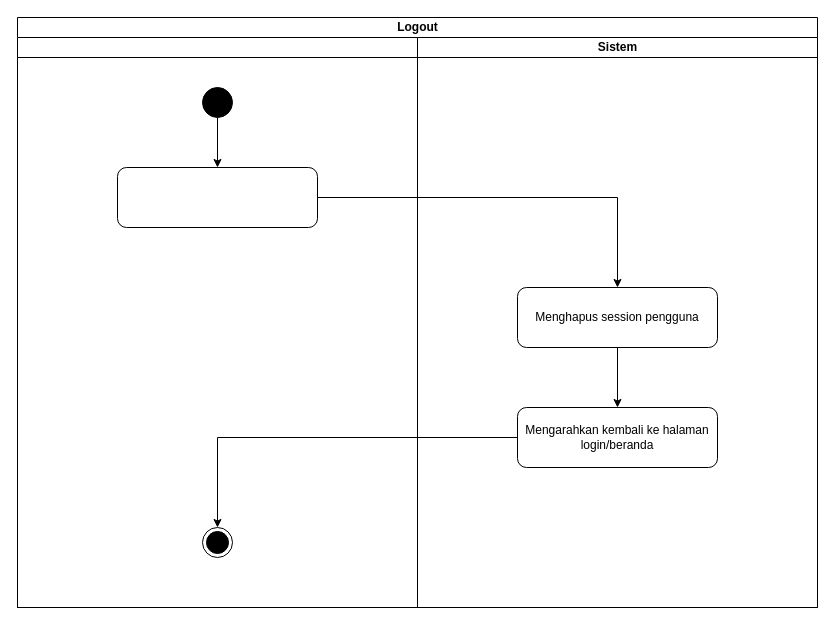
This 835x625 diagram has some shape labels left out. Each missing label, with the box of its shape:
Klik tombol logout: (116, 166, 318, 228)
Pengguna: (16, 36, 418, 608)
